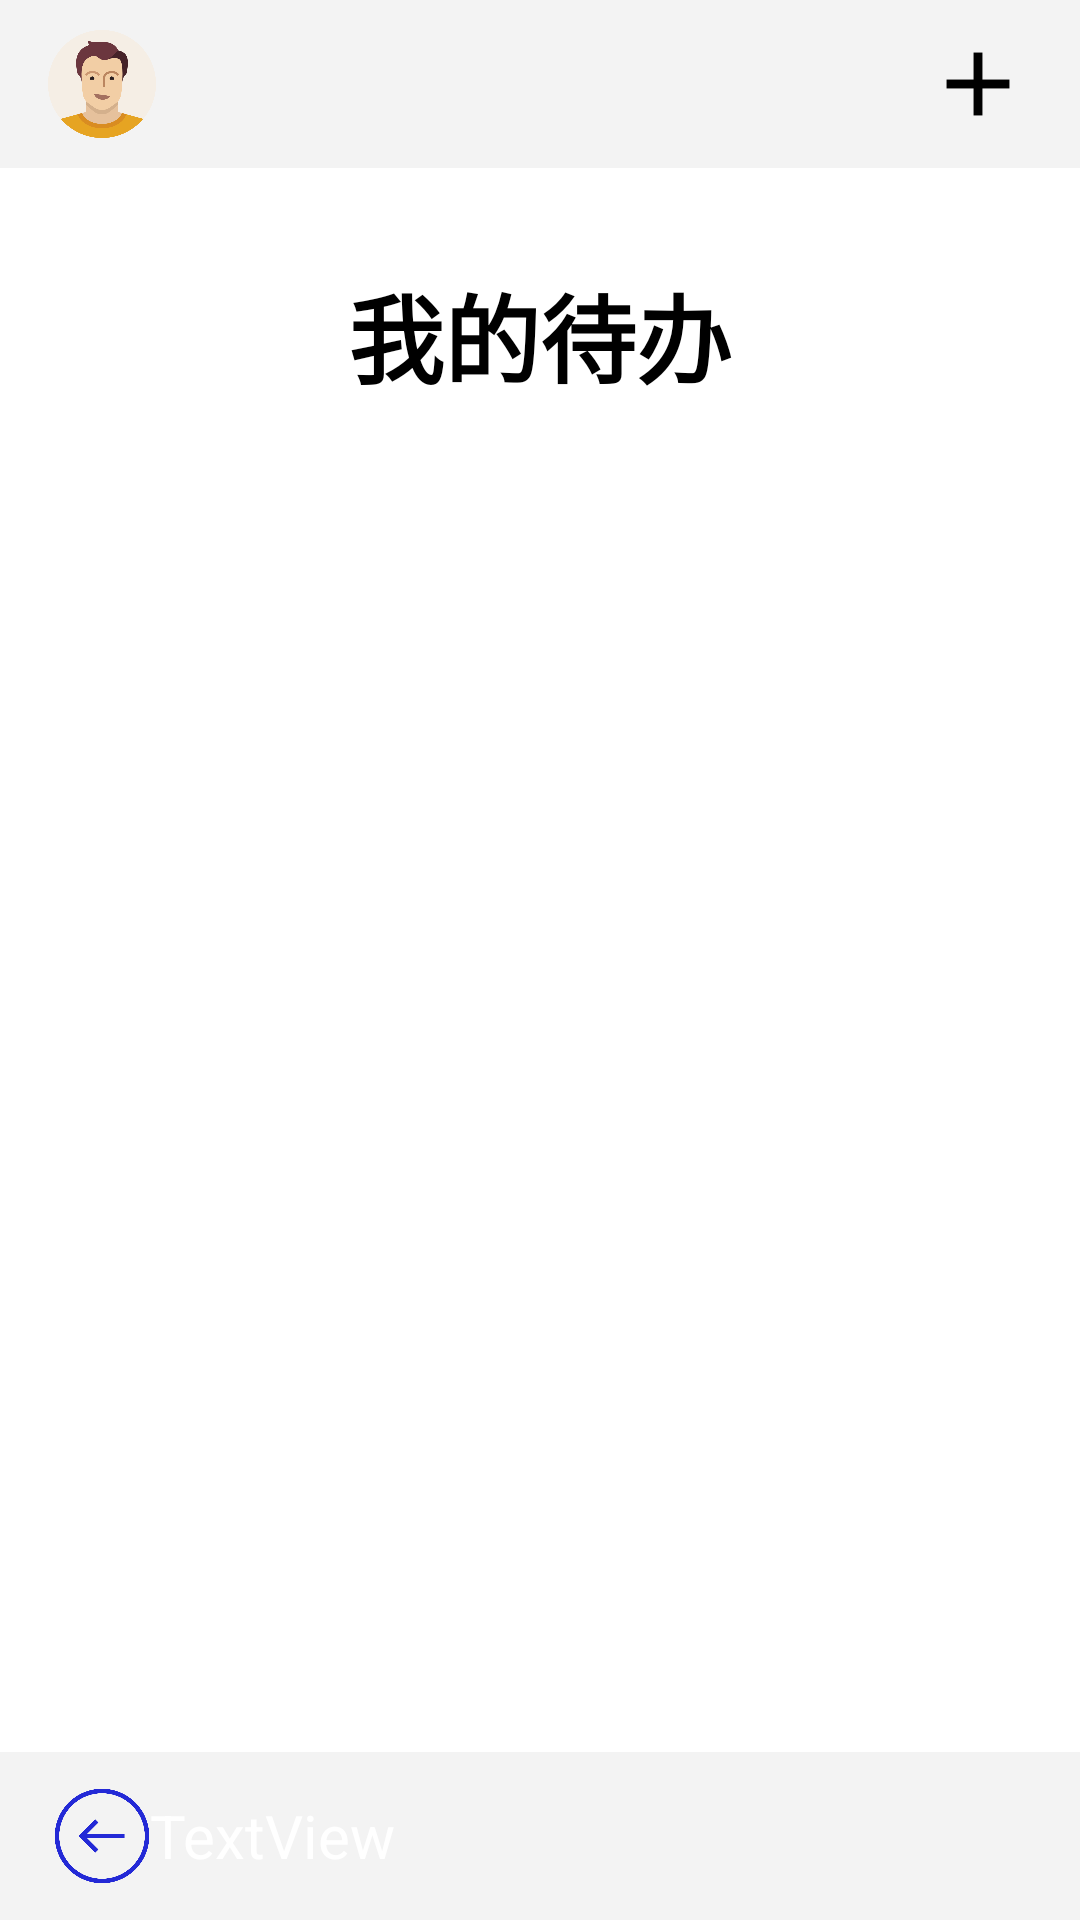

Point at icon controls on the screen. Image size 1080x1920, points as point (x, y).
left circle: point (102, 1836)
person user: point (102, 89)
右上角按钮: point (978, 84)
